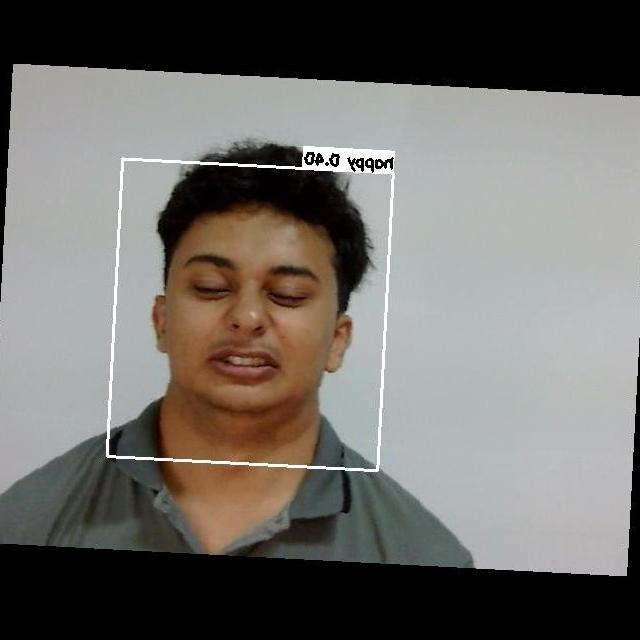Disgust: (167, 225, 345, 399)
